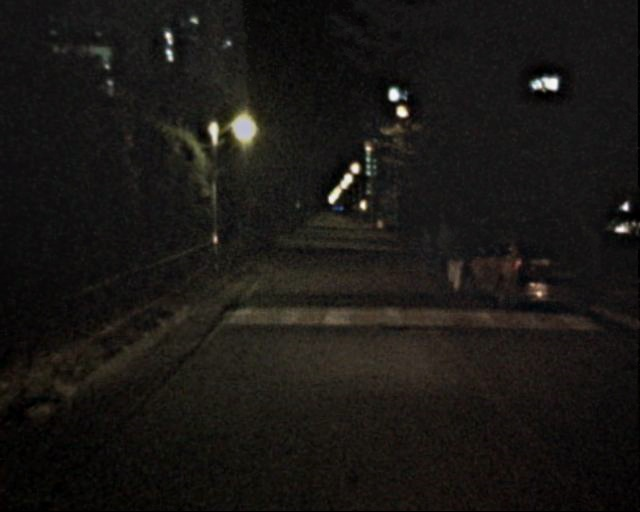person: (440, 225, 467, 290), (416, 228, 436, 277), (433, 222, 452, 269)
